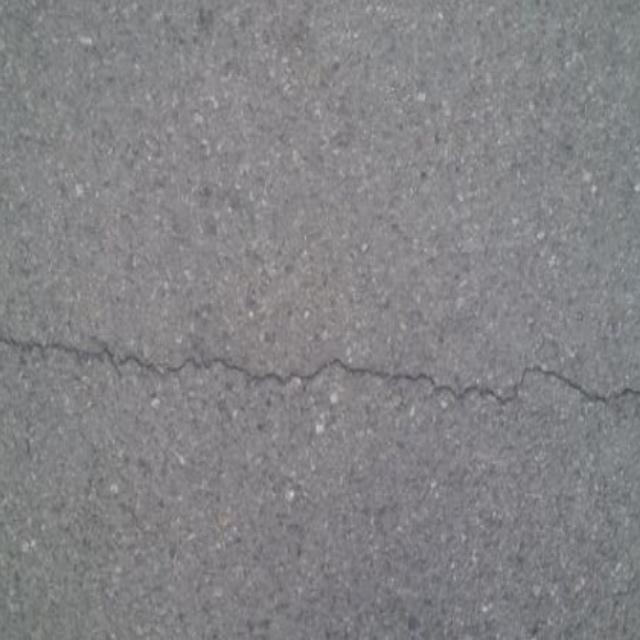GRIETA: (0, 332, 639, 404)
